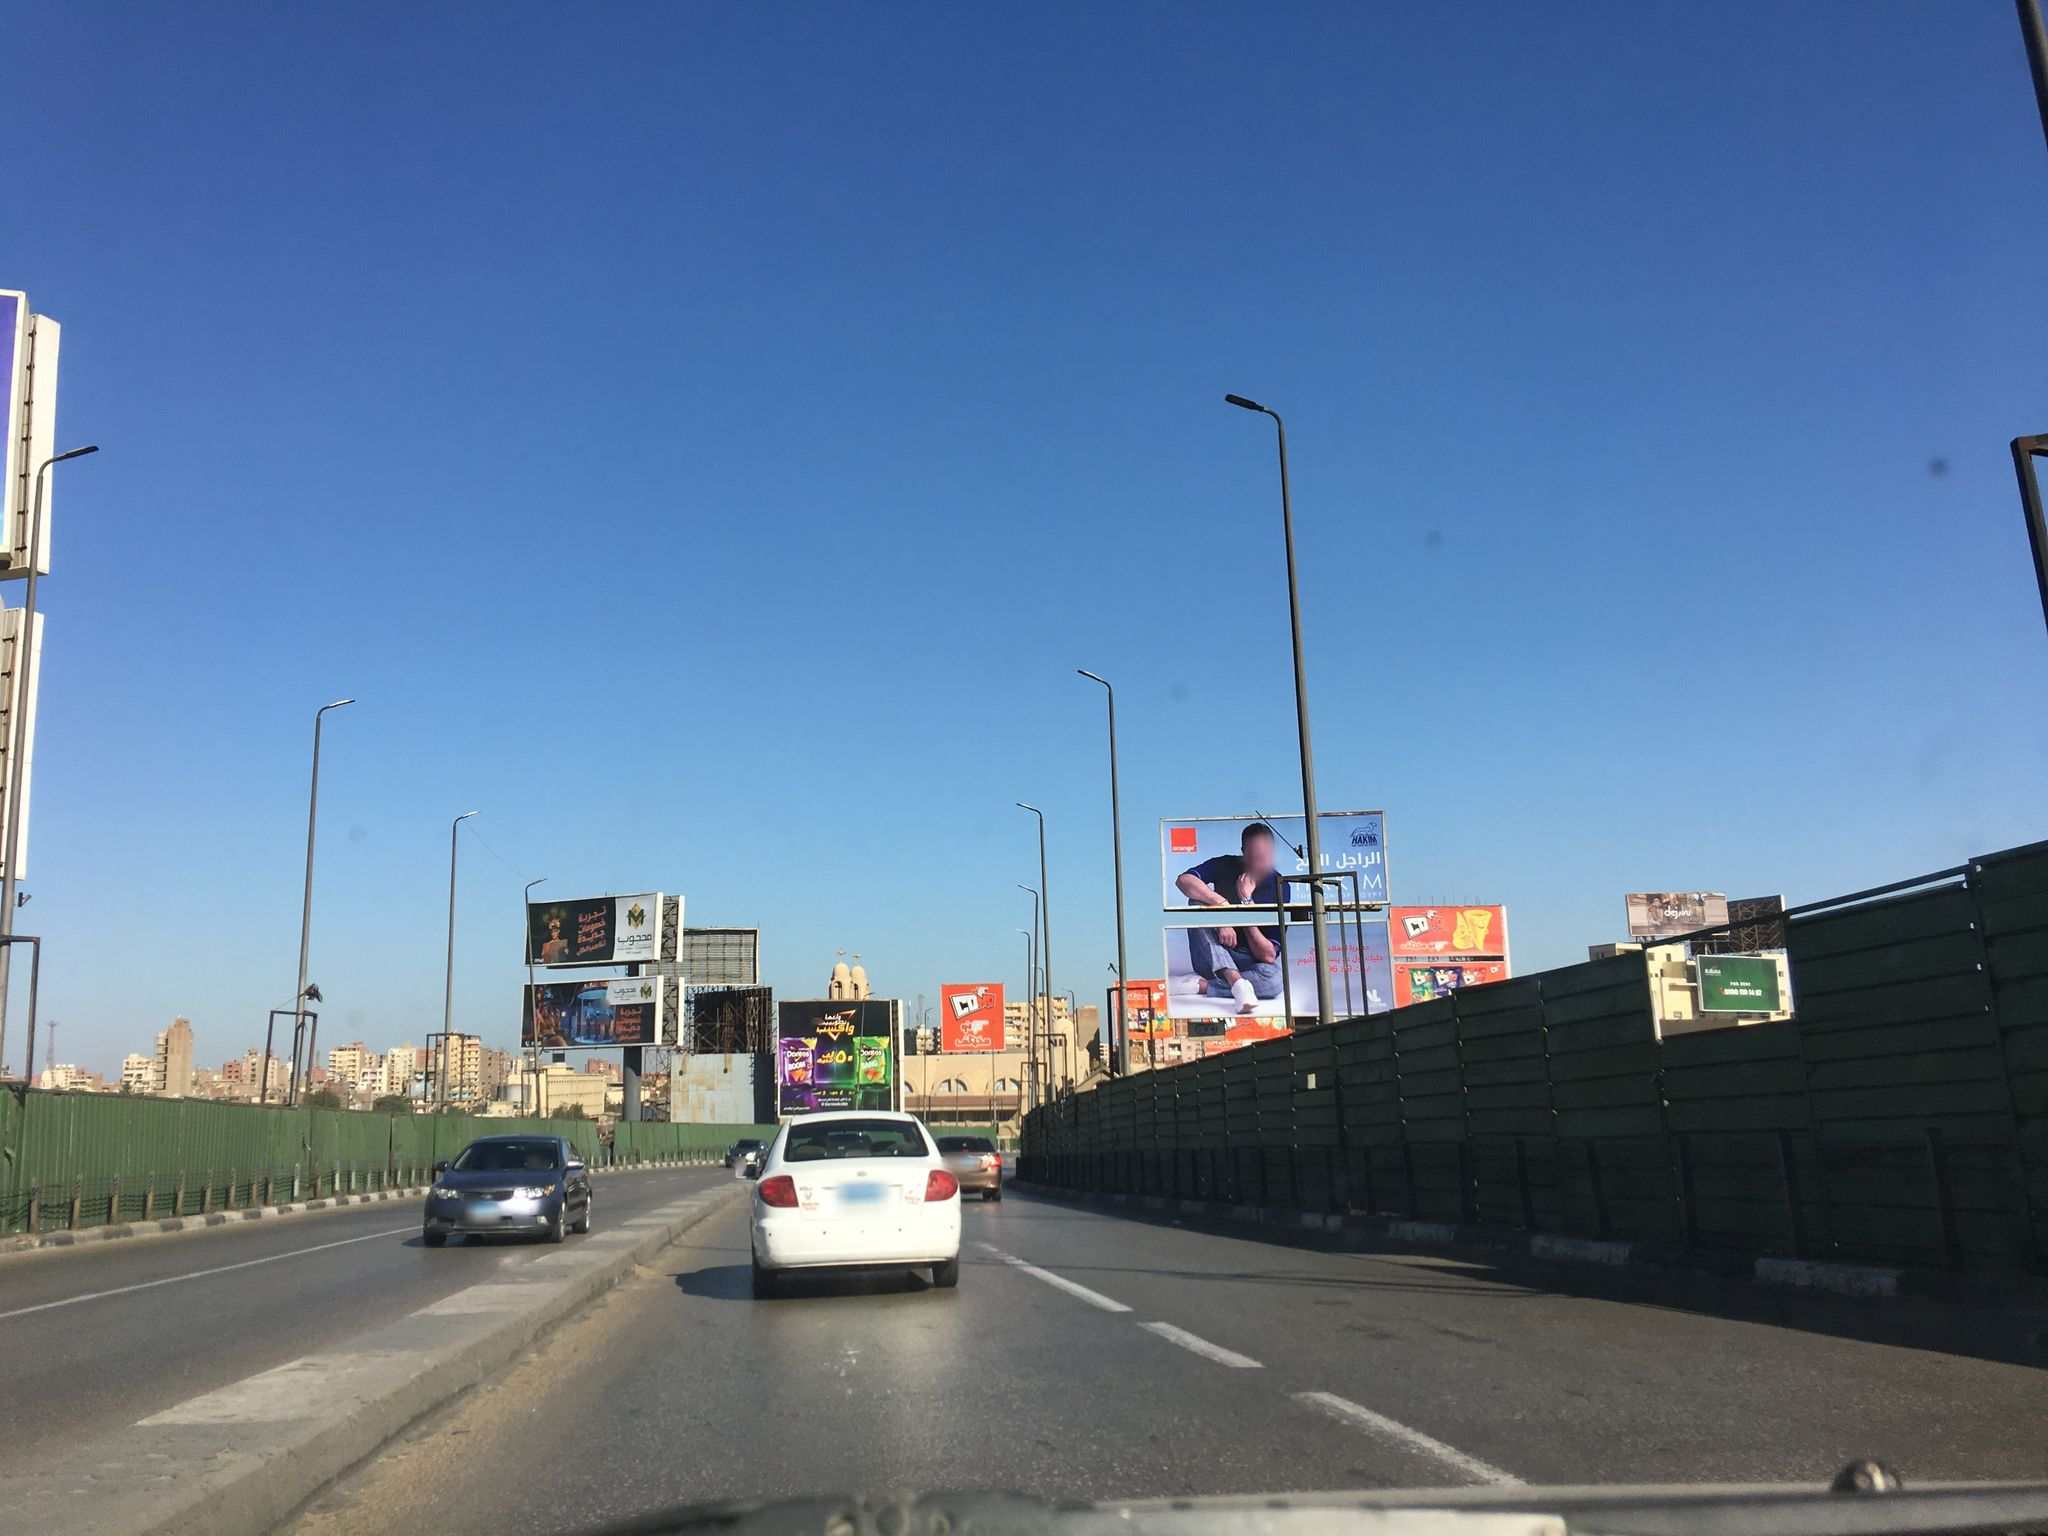car: (745, 1108, 966, 1291), (423, 1133, 595, 1244), (934, 1134, 1003, 1202), (726, 1137, 771, 1170)
